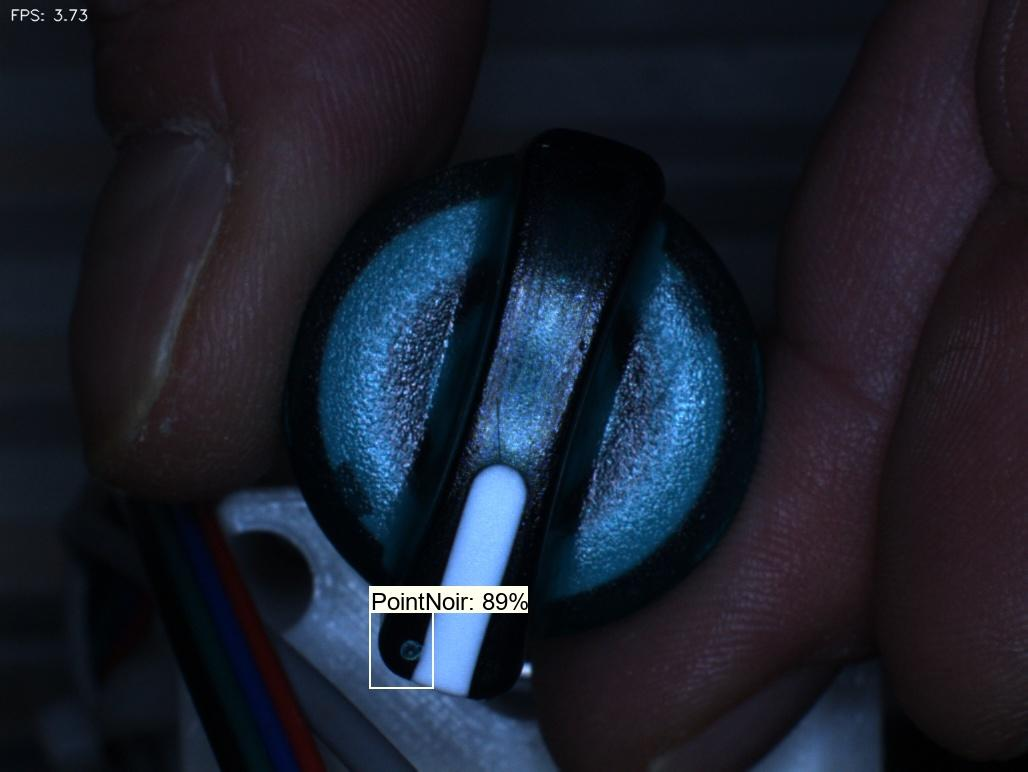Choc: (379, 616, 439, 690)
